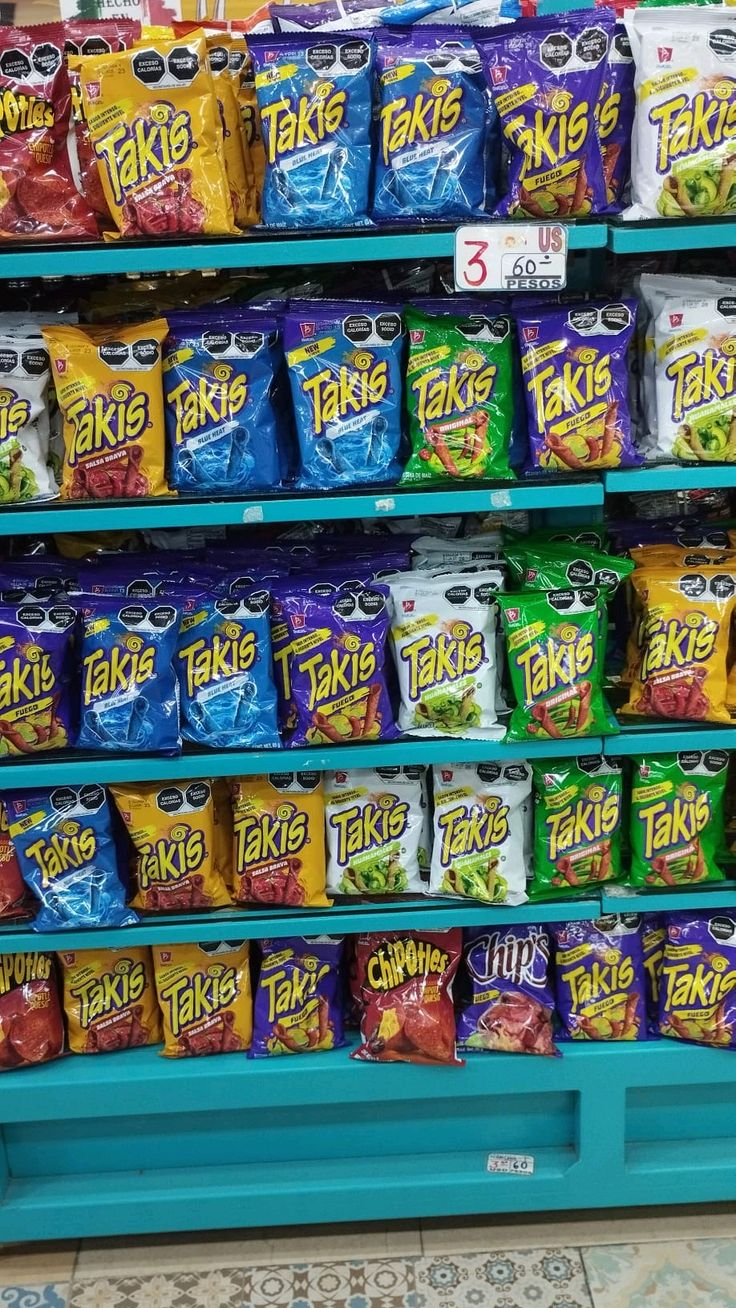snacks: (80, 34, 236, 234), (43, 319, 168, 498), (164, 312, 280, 493), (402, 308, 513, 483), (283, 587, 393, 741), (111, 781, 228, 912)
